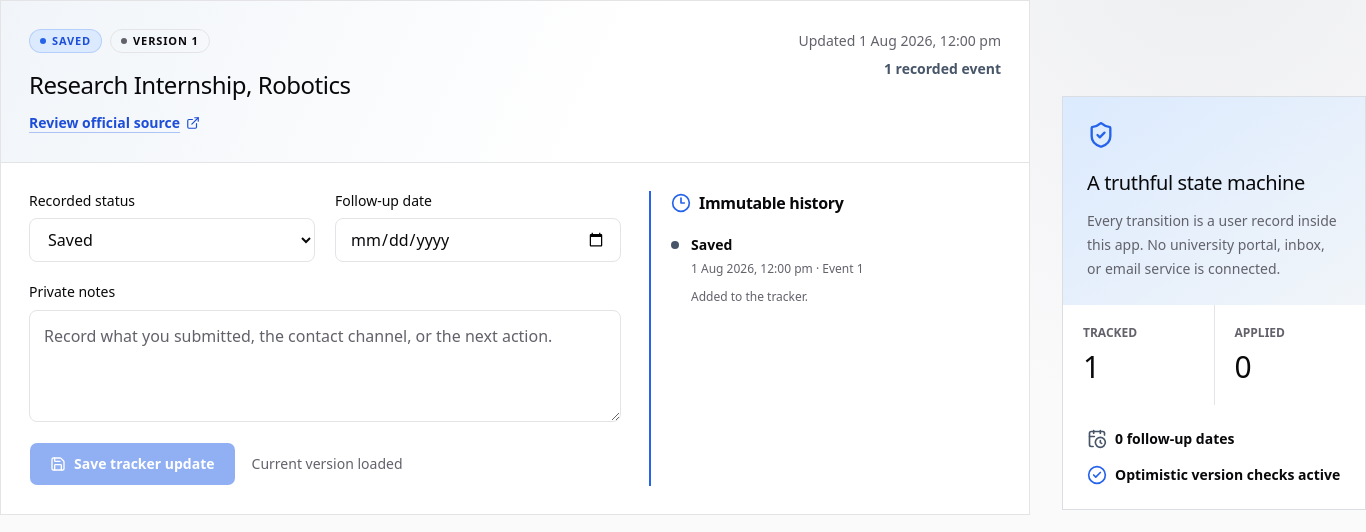
Test: LiveApplications › saves an allowed status with optimistic version metadata
Expected: the heading "Research Internship, Robotics" is shown, [29,68,350,101]
Select "Applied" in the dropdown labelled "Recorded status" at (172, 240), box [29,218,315,262]
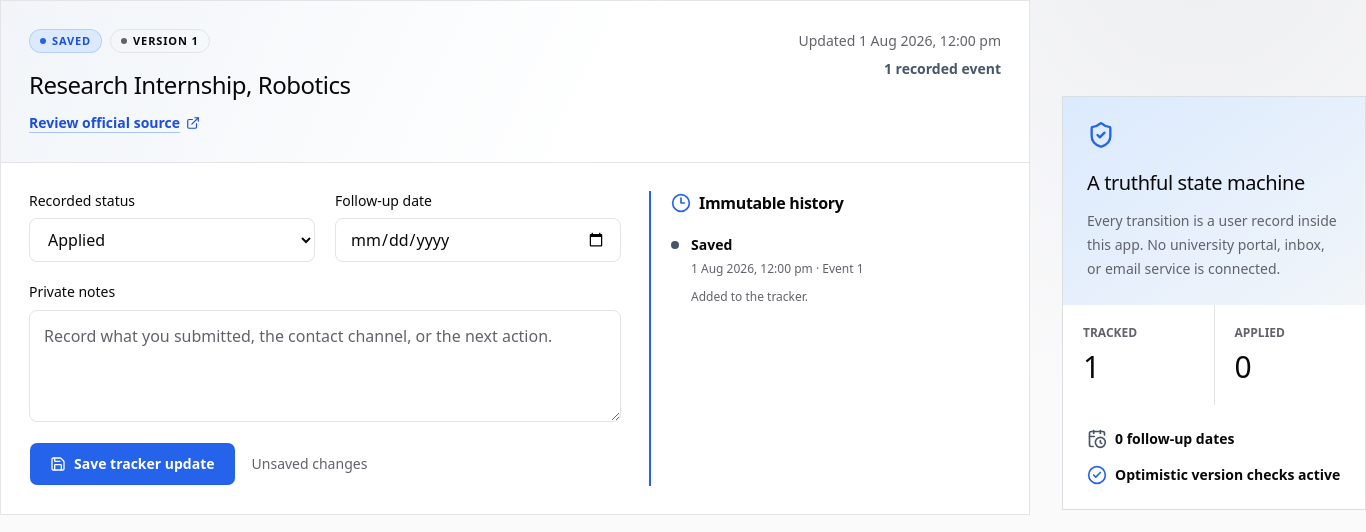
Replace the text in the text box labelled "Private notes" with "Submitted on the official page." at (325, 366), box [29,310,621,422]
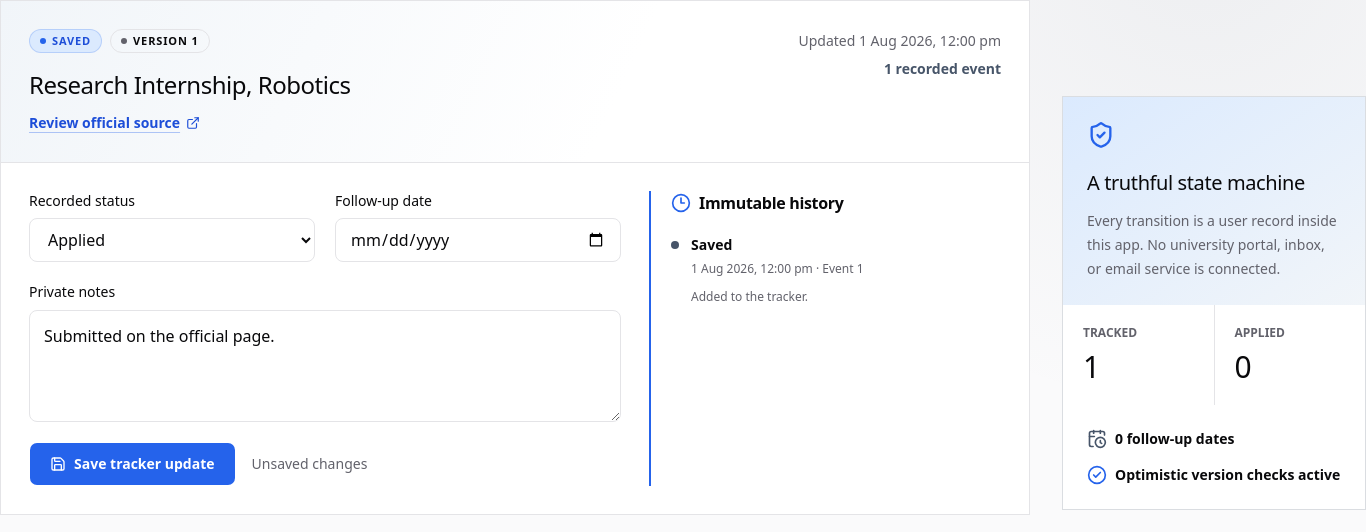
Click the button "Save tracker update" at (132, 464), box [29,442,236,486]
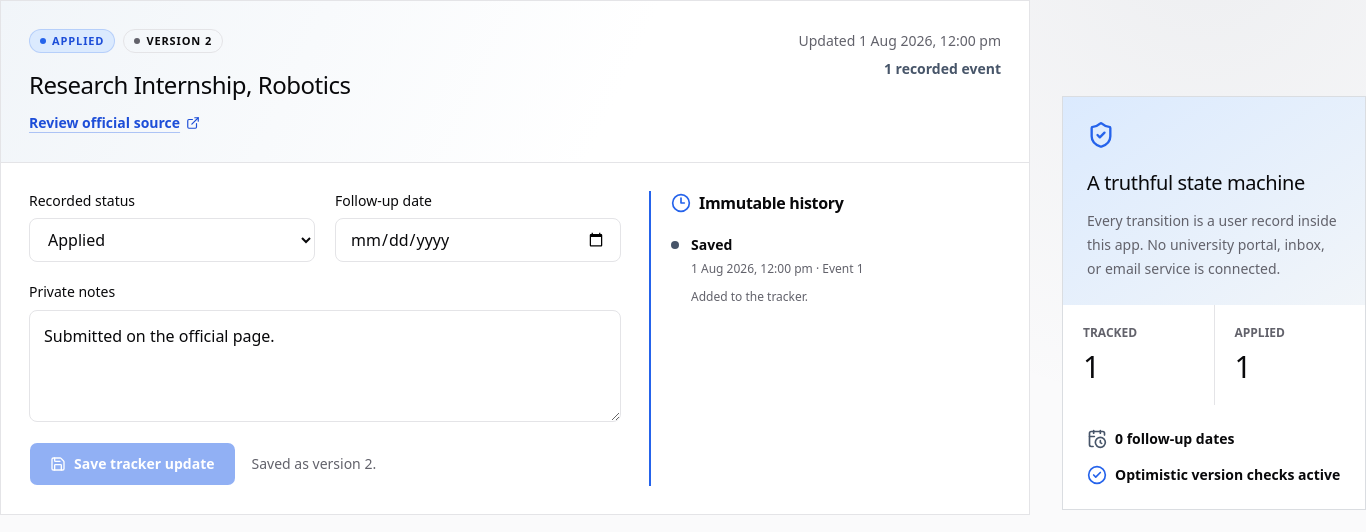
Now the text "Saved as version 2." is shown, box [252,454,376,474]
Replace the text in the text box labelled "Private notes" with "A new unsaved note." at (325, 366), box [29,310,621,422]
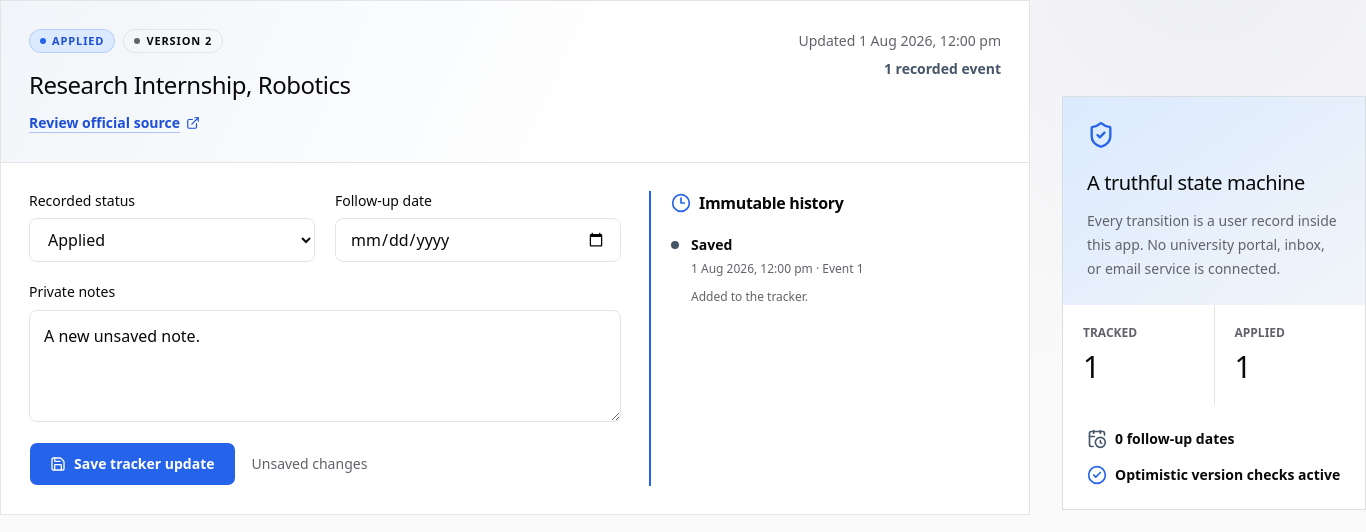
Now the text "Unsaved changes" is shown, box [252,454,367,474]
